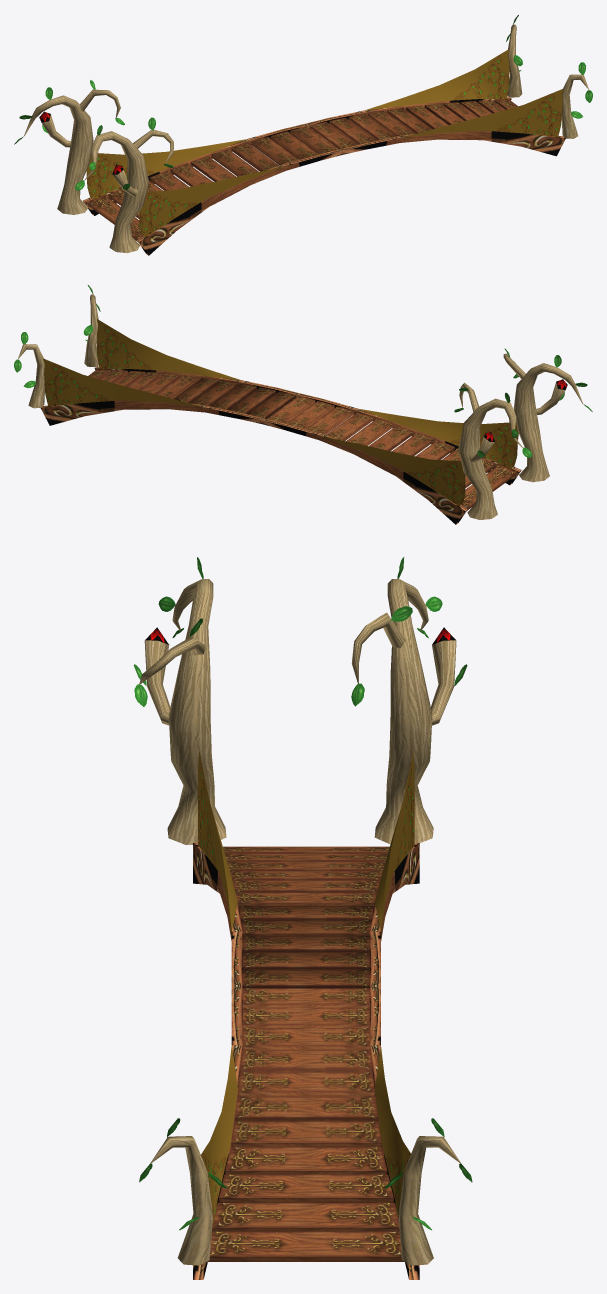
The model's file is EKH_GROTTO_PS_GR_BRIDGE7463__GX.obj.
The picture shows the model from 3 angles, top to bottom: view 1: azimuth 30°, elevation 25°; view 2: azimuth 150°, elevation 25°; view 3: azimuth 270°, elevation 25°; orthographic projection. The views are drawn at different scales.
Parts seen in each view (by area): view 1: _Bridge7463__GX; view 2: _Bridge7463__GX; view 3: _Bridge7463__GX.
Part boxes in pixels (x1,y1,x2,y2): _Bridge7463__GX: (14,15,592,255); _Bridge7463__GX: (14,285,592,524); _Bridge7463__GX: (133,557,472,1279).
Bounding box in the file's own units: 1001 × 265 × 291.
